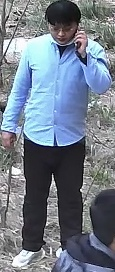phone: (29, 2, 109, 96)
